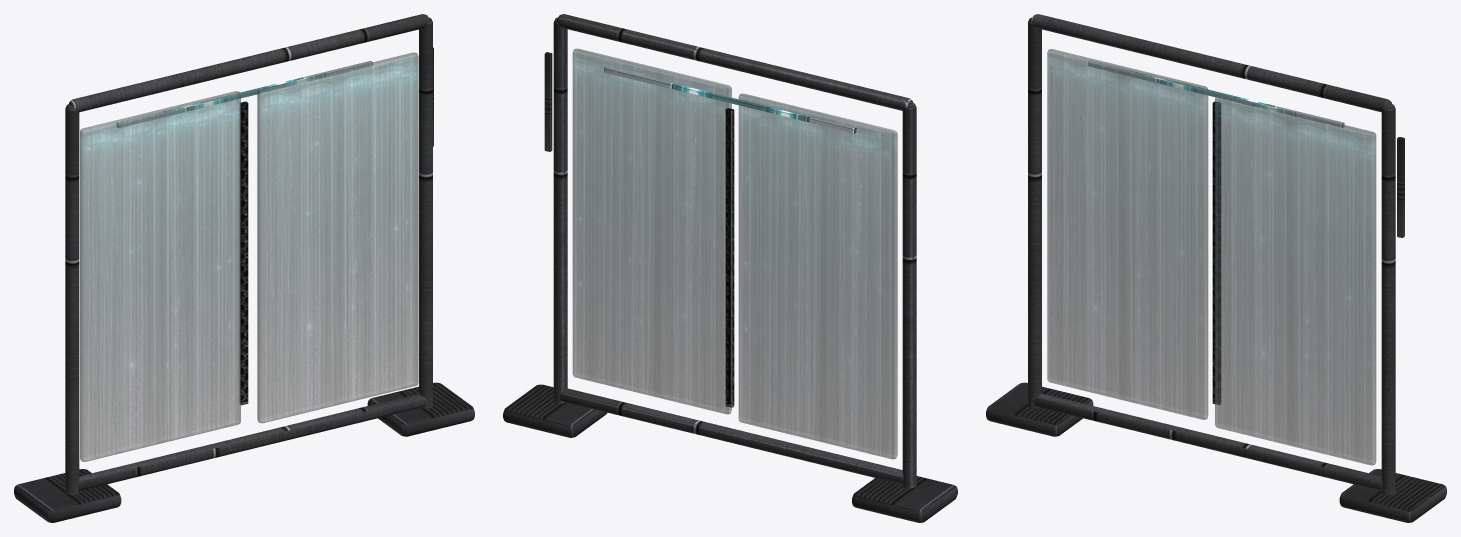
Rendered from hp_l4_cineclinic_privacy_screen.glb.
The picture shows the model from 3 angles, left to right: view 1: azimuth 30°, elevation 25°; view 2: azimuth 150°, elevation 25°; view 3: azimuth 330°, elevation 25°; orthographic projection.
Parts seen in each view (by area): view 1: translucent_panel_b, translucent_panel_a, left_rail, top_rail, bottom_rail, right_rail, left_floor_foot, right_floor_foot, curtain_overlap_shadow, top_cyan_privacy_thread; view 2: translucent_panel_a, translucent_panel_b, left_rail, right_rail, top_rail, bottom_rail, left_floor_foot, right_floor_foot, curtain_overlap_shadow, top_cyan_privacy_thread, tiny_red_edge; view 3: translucent_panel_b, translucent_panel_a, right_rail, top_rail, bottom_rail, left_rail, right_floor_foot, left_floor_foot, curtain_overlap_shadow, top_cyan_privacy_thread, tiny_red_edge.
Boxes of the visible parts, x1=… form: translucent_panel_b: x1=257, y1=52, x2=418, y2=423; translucent_panel_a: x1=80, y1=91, x2=240, y2=461; left_rail: x1=65, y1=104, x2=79, y2=494; top_rail: x1=69, y1=14, x2=429, y2=112; bottom_rail: x1=78, y1=393, x2=426, y2=490; right_rail: x1=419, y1=17, x2=432, y2=408; left_floor_foot: x1=14, y1=469, x2=121, y2=522; right_floor_foot: x1=367, y1=382, x2=474, y2=436; curtain_overlap_shadow: x1=240, y1=101, x2=248, y2=405; top_cyan_privacy_thread: x1=116, y1=60, x2=372, y2=128; translucent_panel_a: x1=738, y1=93, x2=897, y2=459; translucent_panel_b: x1=572, y1=48, x2=731, y2=414; left_rail: x1=902, y1=103, x2=916, y2=488; right_rail: x1=553, y1=17, x2=567, y2=403; top_rail: x1=557, y1=14, x2=912, y2=110; bottom_rail: x1=560, y1=388, x2=903, y2=484; left_floor_foot: x1=852, y1=476, x2=957, y2=522; right_floor_foot: x1=503, y1=384, x2=606, y2=437; curtain_overlap_shadow: x1=725, y1=108, x2=734, y2=407; top_cyan_privacy_thread: x1=604, y1=67, x2=856, y2=133; tiny_red_edge: x1=544, y1=52, x2=552, y2=151; translucent_panel_b: x1=1215, y1=94, x2=1376, y2=465; translucent_panel_a: x1=1047, y1=49, x2=1208, y2=419; right_rail: x1=1381, y1=104, x2=1395, y2=494; top_rail: x1=1031, y1=14, x2=1391, y2=112; bottom_rail: x1=1034, y1=393, x2=1382, y2=490; left_rail: x1=1028, y1=17, x2=1041, y2=408; right_floor_foot: x1=1339, y1=469, x2=1446, y2=522; left_floor_foot: x1=986, y1=382, x2=1093, y2=436; curtain_overlap_shadow: x1=1212, y1=101, x2=1220, y2=404; top_cyan_privacy_thread: x1=1088, y1=61, x2=1344, y2=127; tiny_red_edge: x1=1397, y1=137, x2=1404, y2=237.
Bounding box in the file's own units: 2.08 × 1.89 × 0.32.
Materials: 6 (6 with a texture image).
